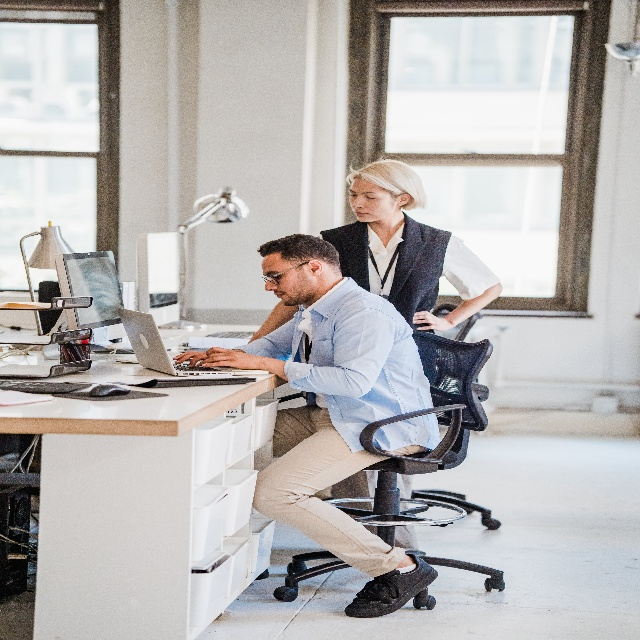Gafas: (261, 261, 309, 285)
Sin_guantes: (197, 345, 262, 370), (412, 309, 450, 332), (173, 351, 206, 368)
